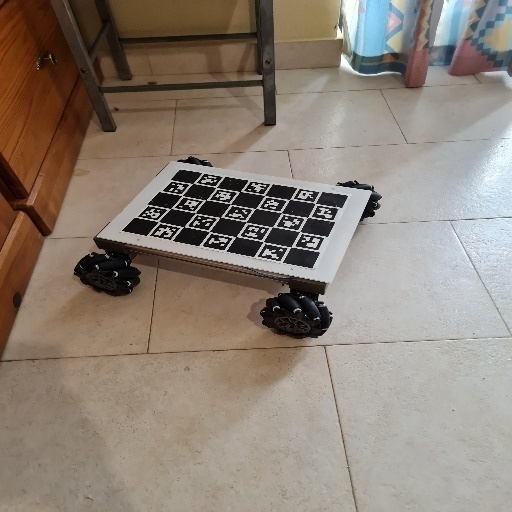Omniwheel: (72, 155, 382, 341)
